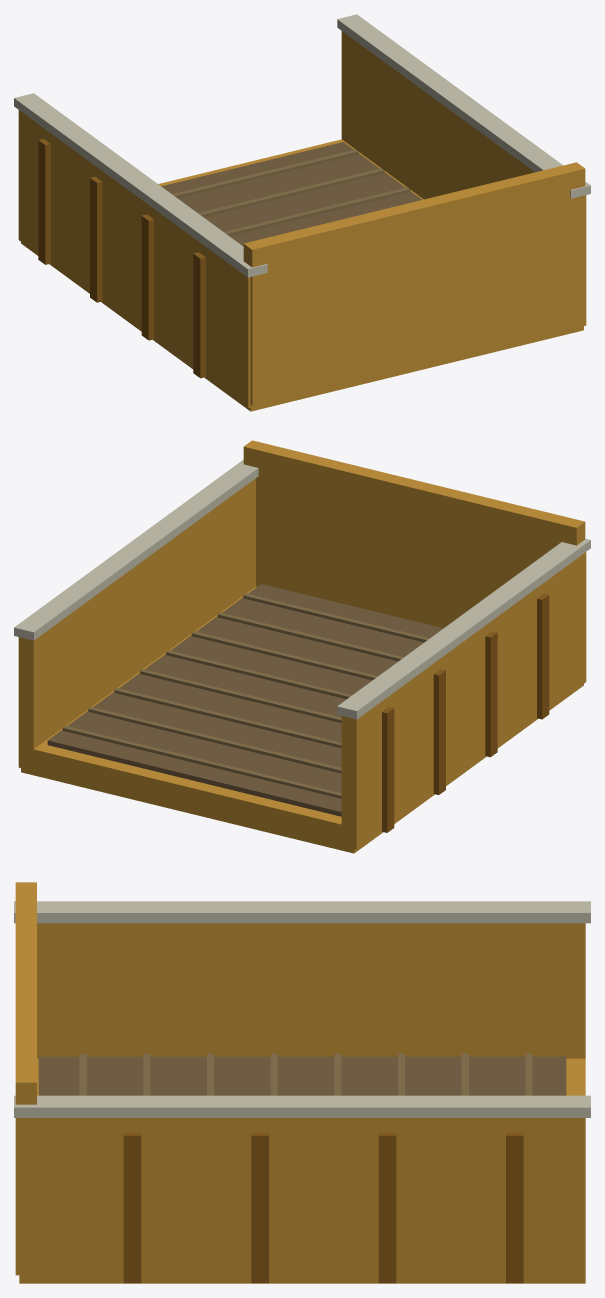
File: haul-bed.glb
3 views of the same model, one above another, from view 1: azimuth 30°, elevation 25°; view 2: azimuth 150°, elevation 25°; view 3: azimuth 270°, elevation 25° (orthographic). The views are drawn at different scales.
Bounding box in the file's own units: 7.02 × 3.13 × 8.15.
